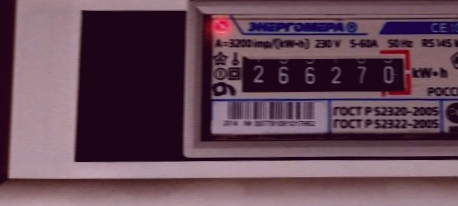0: (381, 61, 394, 81)
2: (250, 61, 265, 81), (328, 62, 342, 82)
6: (276, 61, 289, 82), (303, 63, 316, 83)
7: (354, 62, 366, 81)
screen: (232, 43, 416, 98)
